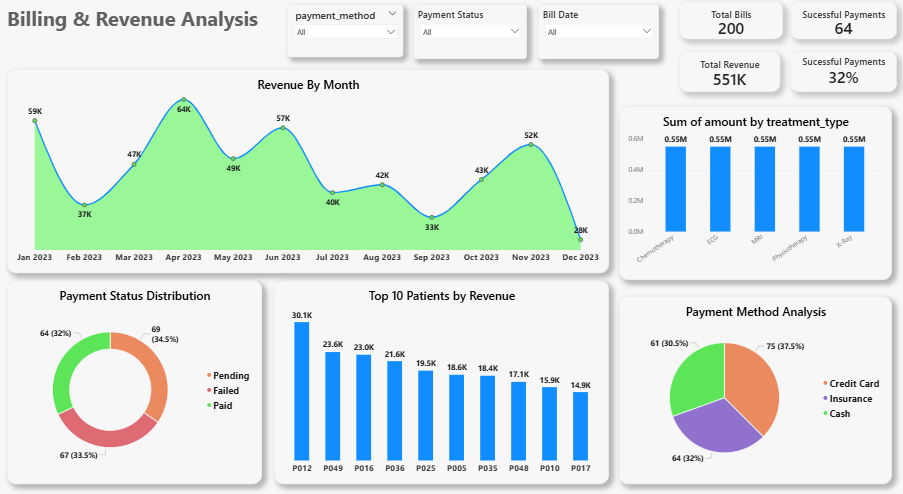

The page's visual inventory and layout, read from the dashboard file:
{"tool":"powerbi","page":{"name":"Revenue and Billing Insights","canvas":[1920,1080],"ordinal":4},"visuals":[{"type":"card","title":"Total Revenue","fields":{"Values":["billing2.Total Revenue"]},"box":[1445.7,133.9,214.7,87.2],"z":0},{"type":"card","title":"Total Bills","fields":{"Values":["Count(billing2.bill_id)"]},"box":[1445.7,27.6,221.1,80.8],"z":1000},{"type":"columnChart","title":"Top 10 Patients by Revenue","fields":{"Y":["billing2.Total Revenue"],"Category":["billing2.patient_id"]},"box":[584.6,620.8,712.2,433.7],"z":2000},{"type":"pieChart","title":"Payment Method Analysis","fields":{"Category":["billing2.payment_method"],"Y":["CountNonNull(billing2.payment_method)"]},"box":[1318.1,654.8,580.4,399.7],"z":3000},{"type":"areaChart","title":"Revenue By Month","fields":{"Y":["Sum(billing2.amount)"],"Category":["billing2.Bill Month Year"]},"box":[17,172.2,1279.8,433.7],"z":4000},{"type":"donutChart","title":"Payment Status Distribution","fields":{"Category":["billing2.payment_status"],"Y":["CountNonNull(billing2.payment_status)"]},"box":[17,620.8,542.1,433.7],"z":5000},{"type":"columnChart","fields":{"Category":["treatments5.treatment_type"],"Y":["Sum(billing2.amount)"]},"box":[1318.1,250.9,580.4,369.9],"z":6000},{"type":"slicer","fields":{"Values":["billing2.payment_method"]},"box":[612.3,34,246.6,112.7],"z":7000},{"type":"slicer","title":"Payment Status","fields":{"Values":["billing2.payment_status"]},"box":[880.2,34,242.4,116.9],"z":8000},{"type":"slicer","title":"Bill Date","fields":{"Values":["billing2.bill_date.Variation.Date Hierarchy.Month"]},"box":[1145.9,34,257.2,116.9],"z":9000},{"type":"card","title":"Sucessful Payments","fields":{"Values":["billing2.Successful Payments"]},"box":[1681.7,27.6,227.5,80.8],"z":10000},{"type":"card","title":"Sucessful Payments","fields":{"Values":["billing2.Payment Success Rate Display"]},"box":[1681.7,133.9,227.5,87.2],"z":11000},{"type":"textbox","box":[17,34,542.1,99.9],"z":12000}]}

Visuals, with their boxes in screenshot pixels (x1, y1, x2, y2), scaled from the page's 1920x1080 canvas onto the 903x494 screenshot:
"Total Revenue" card: 680 61 781 101
"Total Bills" card: 680 13 784 50
"Top 10 Patients by Revenue" columnChart: 275 284 610 482
"Payment Method Analysis" pieChart: 620 300 893 482
"Revenue By Month" areaChart: 8 79 610 277
"Payment Status Distribution" donutChart: 8 284 263 482
columnChart - treatments5.treatment_type x Sum(billing2.amount): 620 115 893 284
slicer - billing2.payment_method: 288 16 404 67
"Payment Status" slicer: 414 16 528 69
"Bill Date" slicer: 539 16 660 69
"Sucessful Payments" card: 791 13 898 50
"Sucessful Payments" card: 791 61 898 101
textbox: 8 16 263 61
